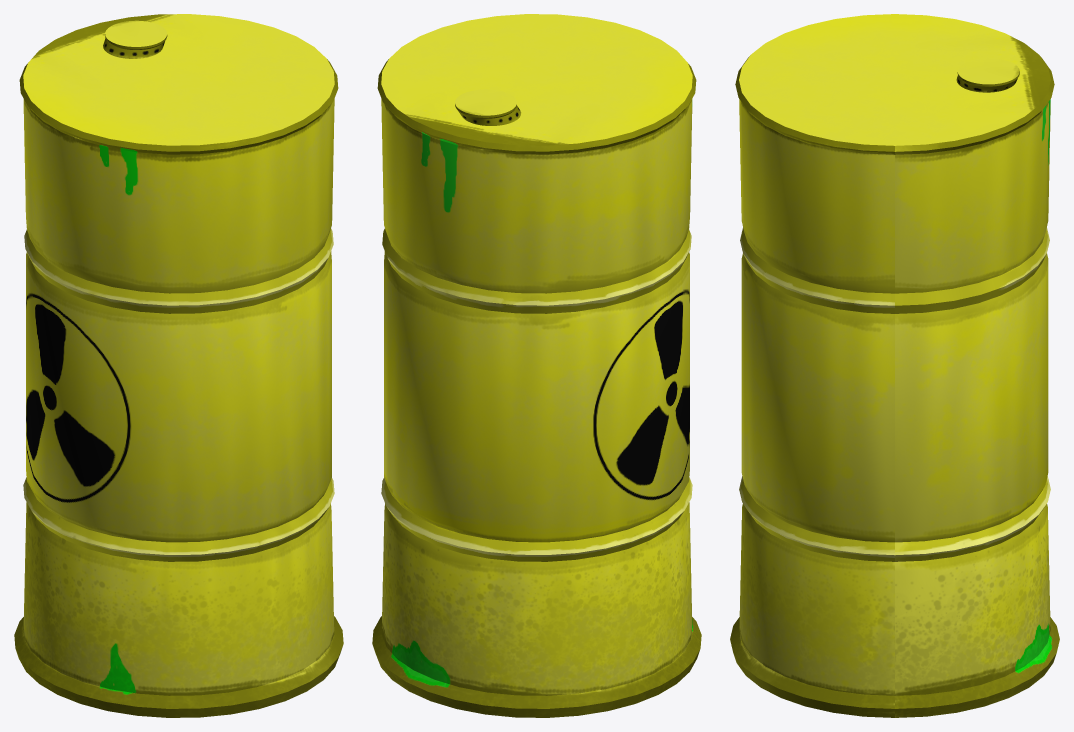
File: SM_Barril1.fbx
3 renders of one model, left to right at view 1: azimuth 30°, elevation 25°; view 2: azimuth 150°, elevation 25°; view 3: azimuth 270°, elevation 25°, orthographic.
Visible parts, largest first — view 1: SM_BarrilRadioactivo1; view 2: SM_BarrilRadioactivo1; view 3: SM_BarrilRadioactivo1.
Boxes of the visible parts, <box> form: SM_BarrilRadioactivo1: <box>14,14,343,717</box>; SM_BarrilRadioactivo1: <box>372,14,701,717</box>; SM_BarrilRadioactivo1: <box>730,14,1059,717</box>.
Bounding box in the file's own units: 216 × 420 × 216.
